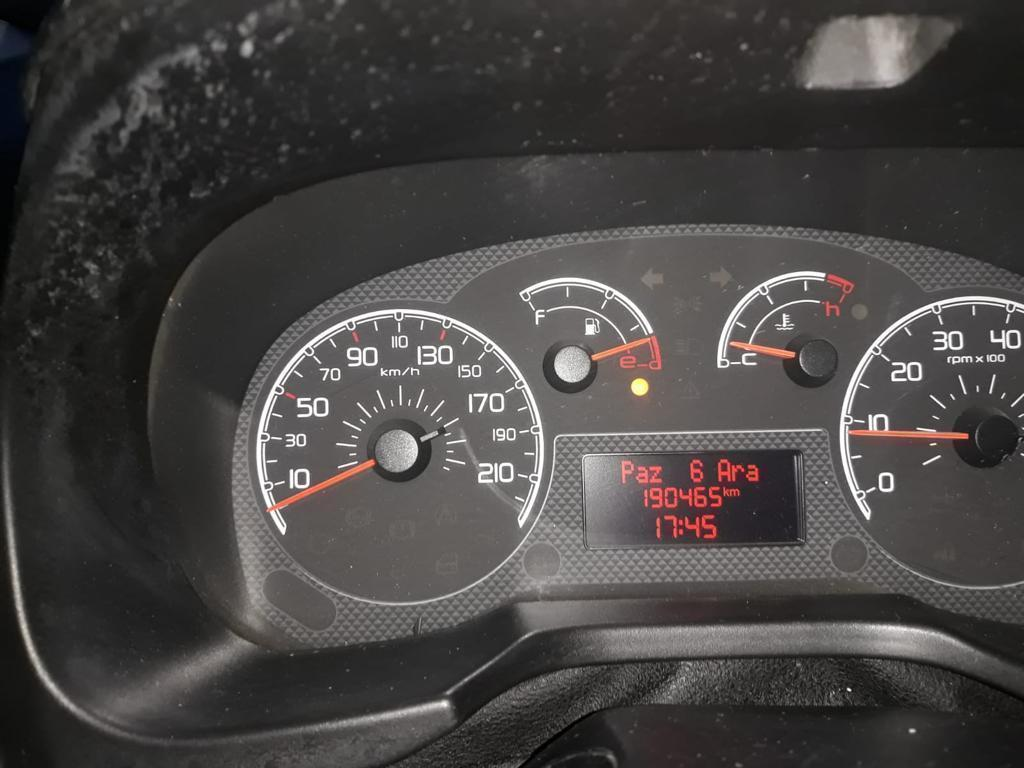0: (663, 486, 678, 508)
1: (653, 515, 662, 540), (640, 487, 648, 508)
4: (684, 514, 700, 539), (678, 486, 693, 507)
5: (700, 513, 717, 539), (708, 485, 722, 507)
6: (688, 457, 704, 483), (693, 485, 707, 507)
7: (663, 514, 677, 539)
9: (648, 486, 663, 509)
X: (620, 459, 635, 484), (716, 457, 731, 482), (648, 464, 663, 483), (745, 463, 760, 482), (731, 462, 745, 482), (635, 465, 648, 484), (730, 487, 740, 497), (678, 517, 683, 536), (722, 484, 729, 497)
odometer: (579, 448, 805, 551)
